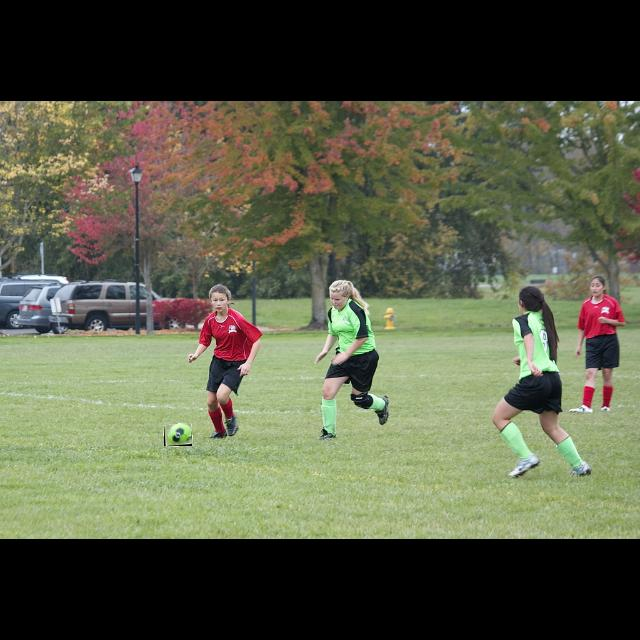Football: (164, 424, 192, 446)
